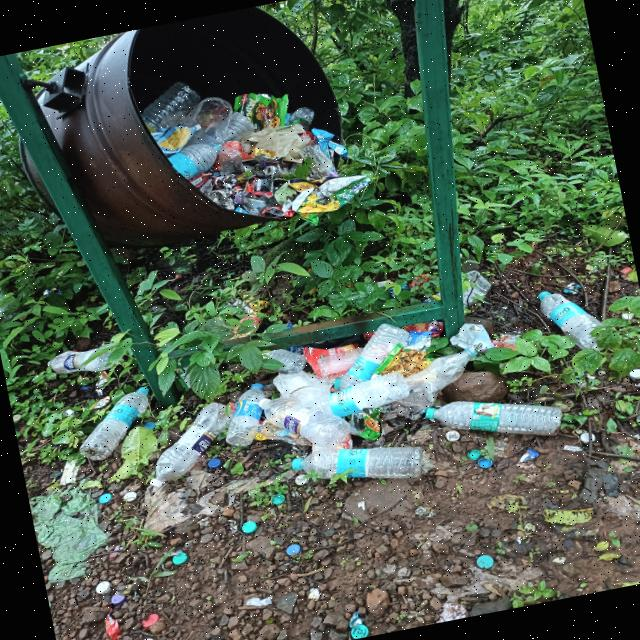garbage: (46, 248, 639, 538), (116, 44, 395, 256)
